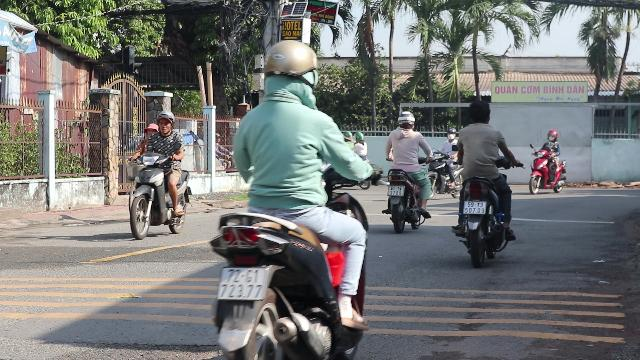helmet: (258, 39, 318, 103), (155, 110, 175, 134), (396, 110, 416, 130)
licenseplate: (218, 268, 266, 298), (464, 200, 486, 214), (388, 186, 404, 196)
motorcyclist: (202, 38, 378, 356), (448, 96, 520, 264), (124, 109, 192, 240), (382, 110, 432, 231)
nohelmet: (466, 98, 492, 126)
